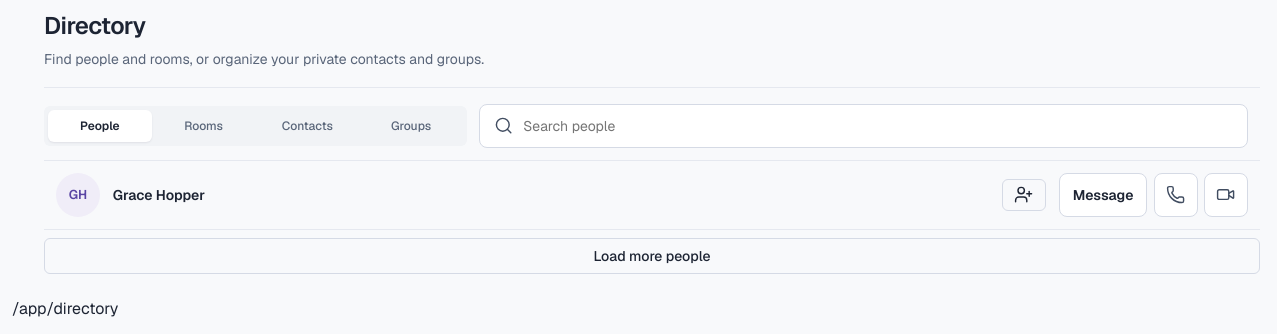
Test: DirectoryPage › resets a pending old page when the search changes and ignores its late results
The width and height of the screenshot is (1277, 334).
Expected: the list named "People" is shown, [44,161,1260,230]
Click the button "Load more people" at (652, 256), box [44,238,1260,274]
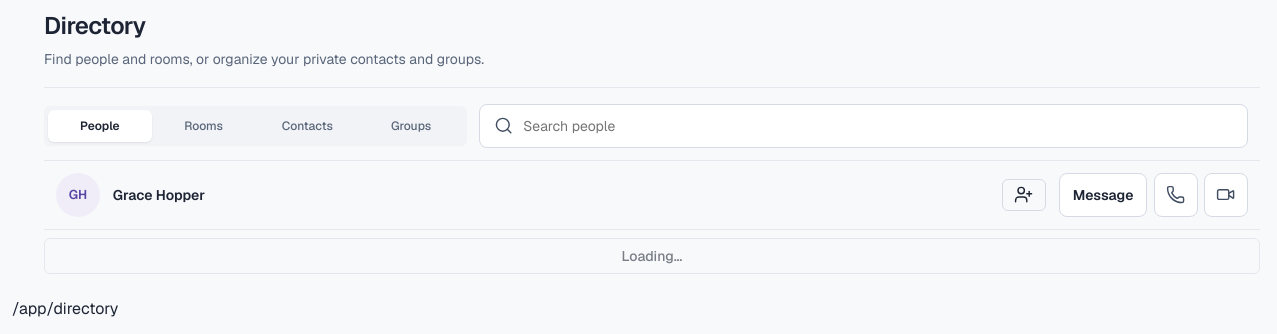
Type "New" into the search field labelled "Search people" at (878, 126), box [523,109,1233,143]
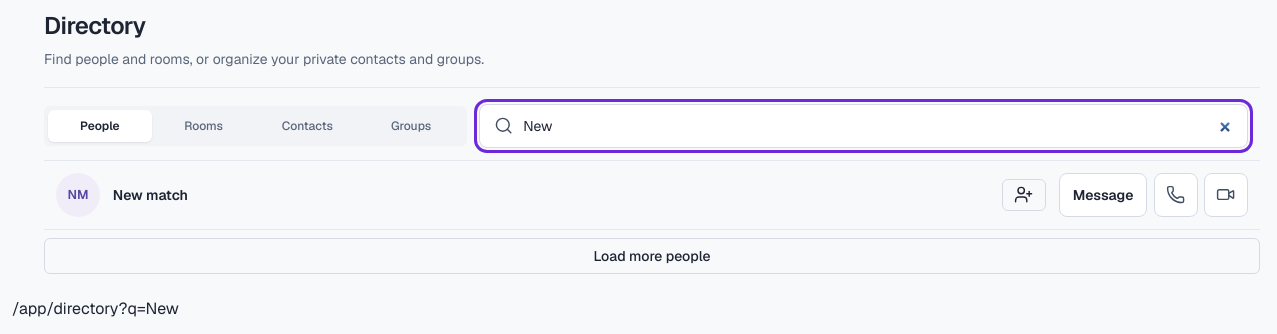
Expected: the text "New match" is shown, [113,186,188,204]
Expected: the button "Load more people" is enabled, [44,238,1260,274]
